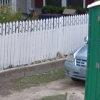Car: (59, 33, 92, 81)
